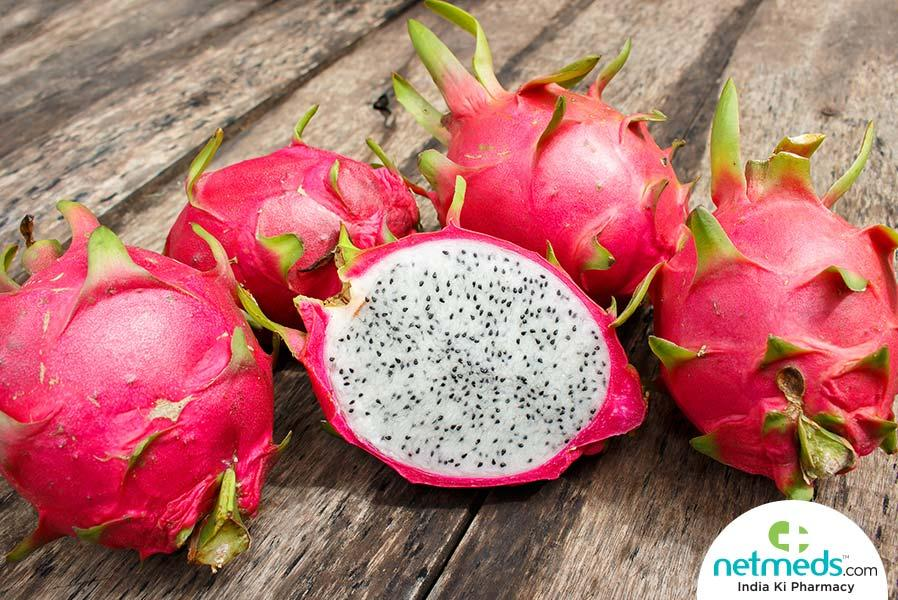thanh_long: (0, 213, 278, 575), (652, 129, 897, 495)
